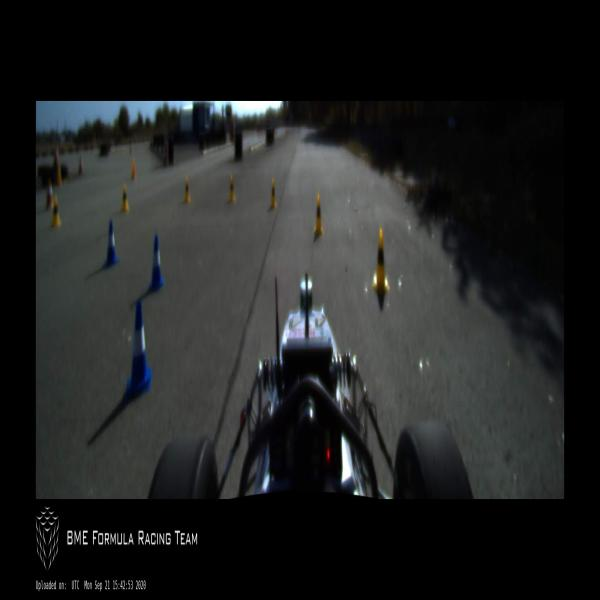blue_cone: (125, 301, 151, 406), (148, 234, 165, 294), (102, 220, 119, 270)
yellow_cone: (372, 228, 390, 294), (313, 194, 324, 234), (51, 195, 61, 229), (121, 183, 129, 214), (183, 176, 190, 205), (270, 179, 276, 210), (229, 174, 235, 204)
